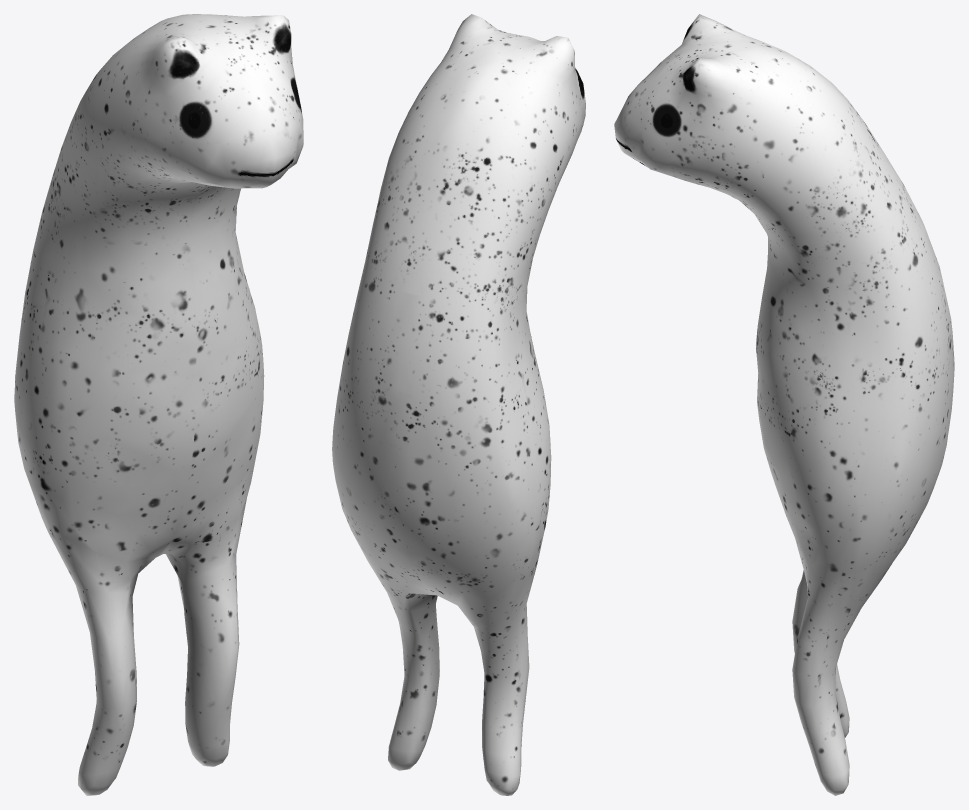
The model's file is Akyo.obj.
3 views of the same model, side by side, from view 1: azimuth 30°, elevation 25°; view 2: azimuth 150°, elevation 25°; view 3: azimuth 270°, elevation 25° (orthographic). The views are drawn at different scales.
Visible parts, largest first — view 1: Head, Spine, Chest, Hips, Upper Leg.R, Upper Leg.L, Lower Leg.L, Lower Leg.R, Neck; view 2: Chest, Hips, Spine, Neck, Head, Upper Leg.R, Lower Leg.R, Lower Leg.L, Upper Leg.L; view 3: Head, Chest, Spine, Hips, Neck, Upper Leg.L, Lower Leg.L, Lower Leg.R.
Boxes of the visible parts, left/top/right/bottom form: Head: left=85, top=14, right=303, bottom=211; Spine: left=14, top=253, right=264, bottom=450; Chest: left=27, top=149, right=244, bottom=345; Hips: left=14, top=376, right=264, bottom=563; Upper Leg.R: left=48, top=533, right=154, bottom=707; Upper Leg.L: left=166, top=518, right=241, bottom=653; Lower Leg.L: left=185, top=620, right=239, bottom=758; Lower Leg.R: left=78, top=671, right=136, bottom=789; Neck: left=61, top=57, right=111, bottom=190; Chest: left=342, top=199, right=539, bottom=439; Hips: left=332, top=440, right=550, bottom=615; Spine: left=332, top=343, right=551, bottom=511; Neck: left=373, top=97, right=548, bottom=259; Head: left=399, top=14, right=585, bottom=213; Upper Leg.R: left=457, top=574, right=532, bottom=703; Lower Leg.R: left=482, top=673, right=526, bottom=795; Lower Leg.L: left=388, top=635, right=439, bottom=768; Upper Leg.L: left=369, top=563, right=439, bottom=679; Head: left=614, top=14, right=828, bottom=236; Chest: left=757, top=153, right=952, bottom=381; Spine: left=756, top=325, right=954, bottom=490; Hips: left=759, top=416, right=950, bottom=605; Neck: left=781, top=68, right=893, bottom=235; Upper Leg.L: left=792, top=568, right=882, bottom=705; Lower Leg.L: left=792, top=668, right=849, bottom=791; Lower Leg.R: left=792, top=622, right=849, bottom=735.
Size of the model in its own units: 0.2594 by 0.901 by 0.381.
